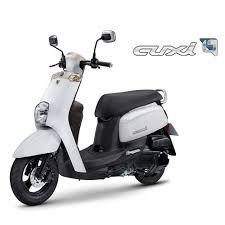motorcycle: (7, 27, 179, 204)
